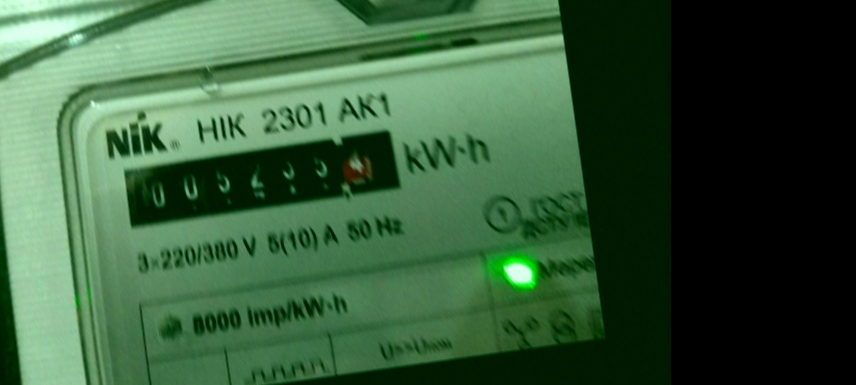0: (177, 169, 202, 204), (146, 177, 168, 210)
2: (242, 156, 268, 193)
3: (274, 149, 302, 185)
4: (342, 140, 369, 179)
5: (307, 144, 334, 183), (211, 162, 234, 197)
screen: (104, 115, 415, 242)
